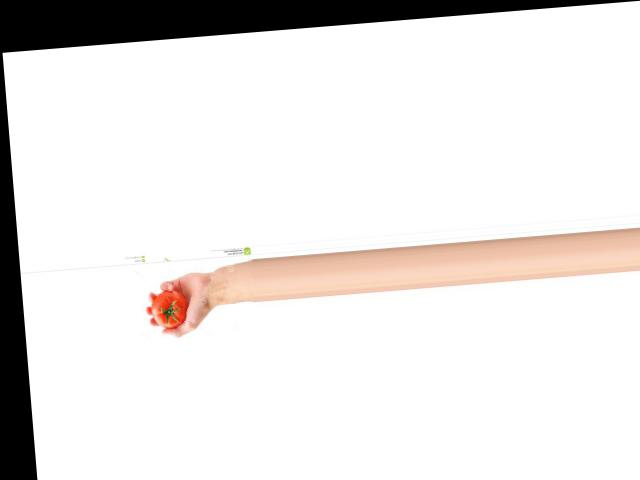tomato: (149, 288, 188, 328)
